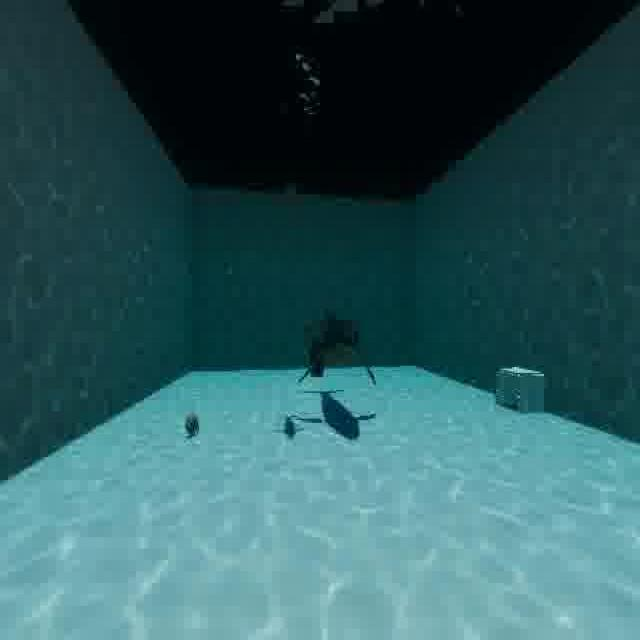Docking Station: (491, 353, 549, 419)
Shell: (182, 403, 203, 448)
Whale: (283, 303, 385, 399)
